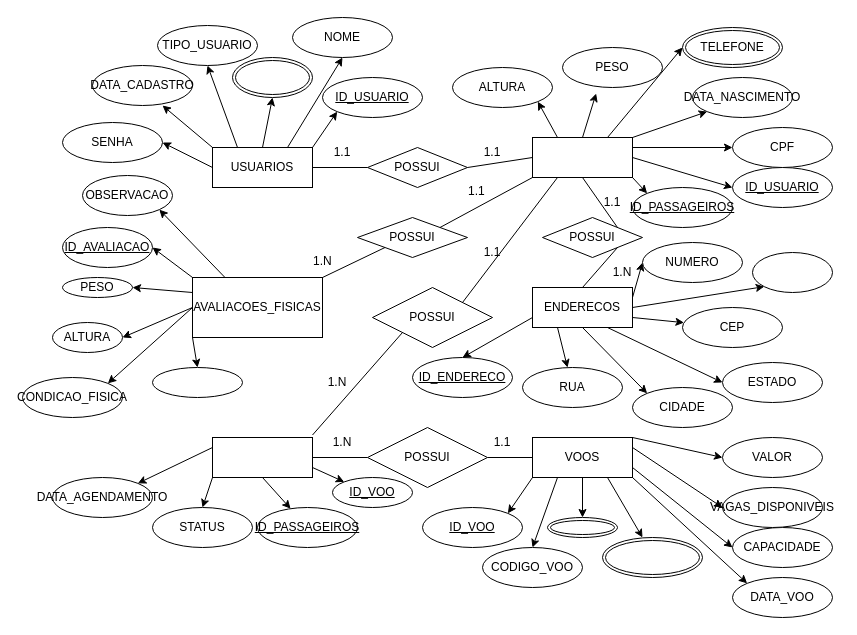
This 857x635 diagram has some shape labels left out. The shapes that lost their labels are listed below. From the top down, each one's centre as x and y in pixels, then its label:
At (x=272, y=77): "EMAIL".
At (x=582, y=157): "PASSAGEIROS".
At (x=792, y=272): "ID_PASSAGEIRO".
At (x=197, y=382): "DATA_AVALICAO".
At (x=262, y=457): "AGENDAMENTOS".
At (x=582, y=527): "ORIGEM".
At (x=652, y=557): "DESTINO".
